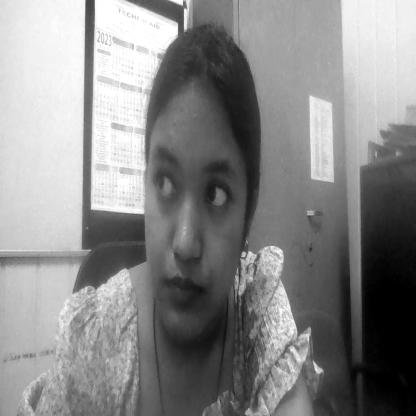Normal: (141, 78, 246, 340)
